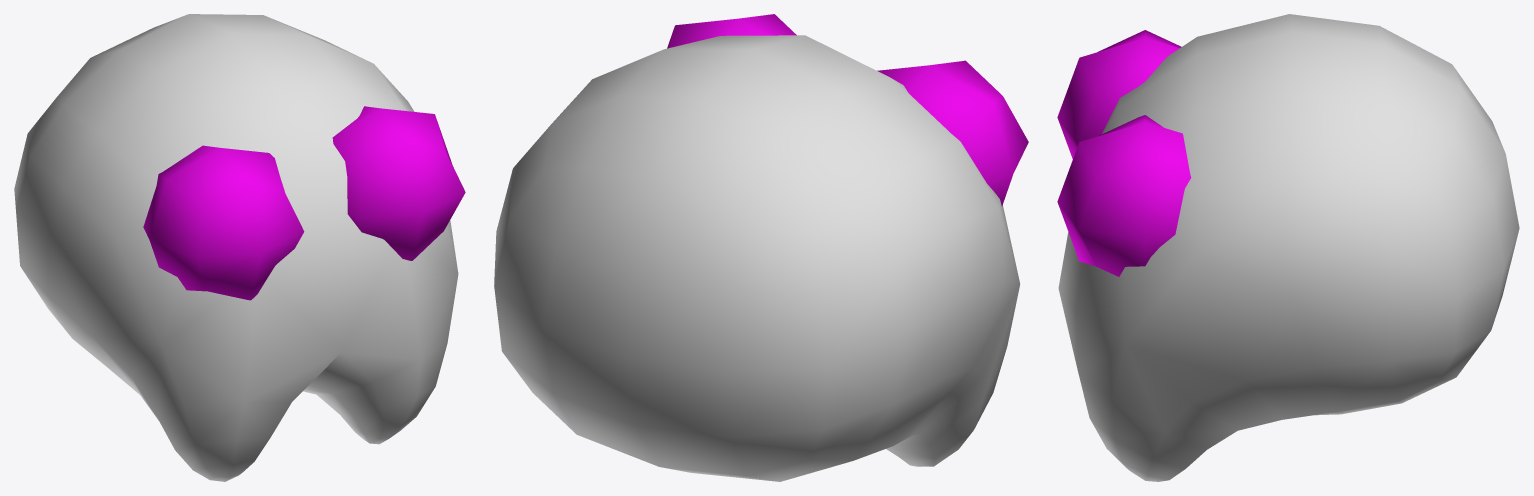
File: Squibbly.fbx
3 views of the same model, side by side, from view 1: azimuth 30°, elevation 25°; view 2: azimuth 150°, elevation 25°; view 3: azimuth 270°, elevation 25° (orthographic). The views are drawn at different scales.
Visible parts, largest first — view 1: Squibbly; view 2: Squibbly; view 3: Squibbly.
Part boxes in pixels (x1,y1,x2,y2): Squibbly: (14,14,465,481); Squibbly: (494,14,1028,481); Squibbly: (1057,14,1519,481).
Bounding box in the file's own units: 109 × 109 × 112.
